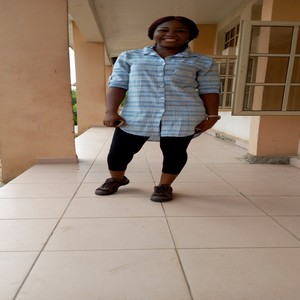Fulokoja_female_student: (119, 19, 205, 199)
